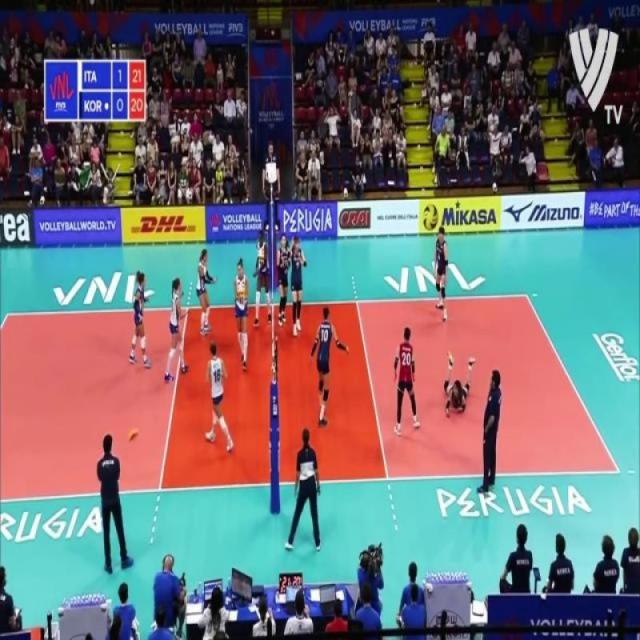volleyball: (422, 203, 439, 230)
